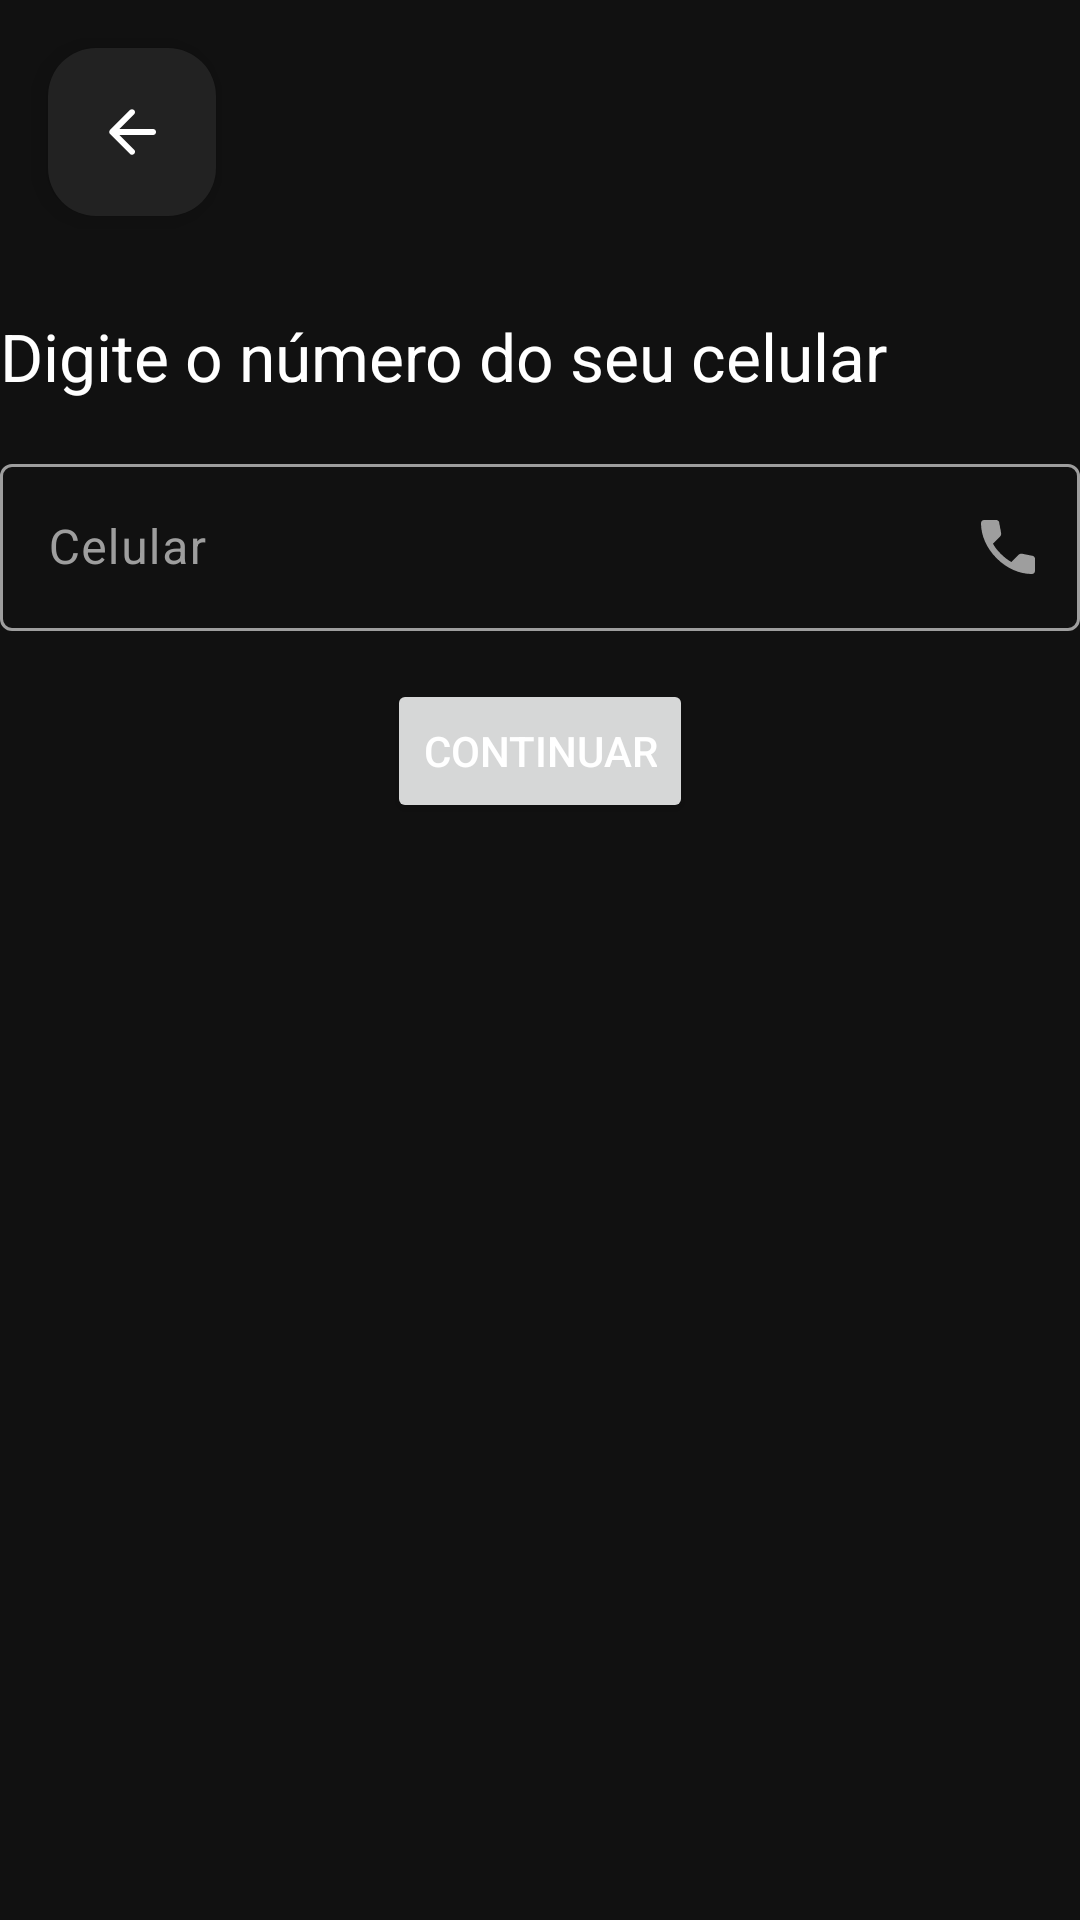

Icons on this 1080 × 1920 Android screen, each with the point to tap as [x,y]:
arrow back: [132,132]
